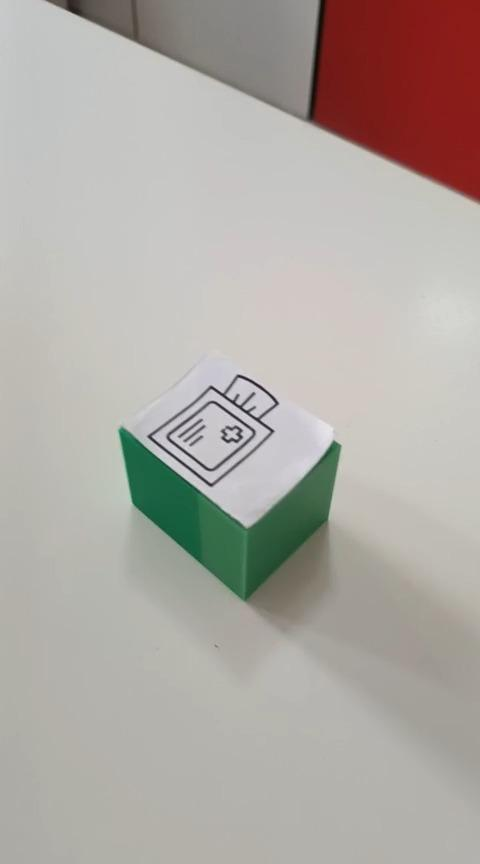Gauze: (117, 349, 341, 601)
